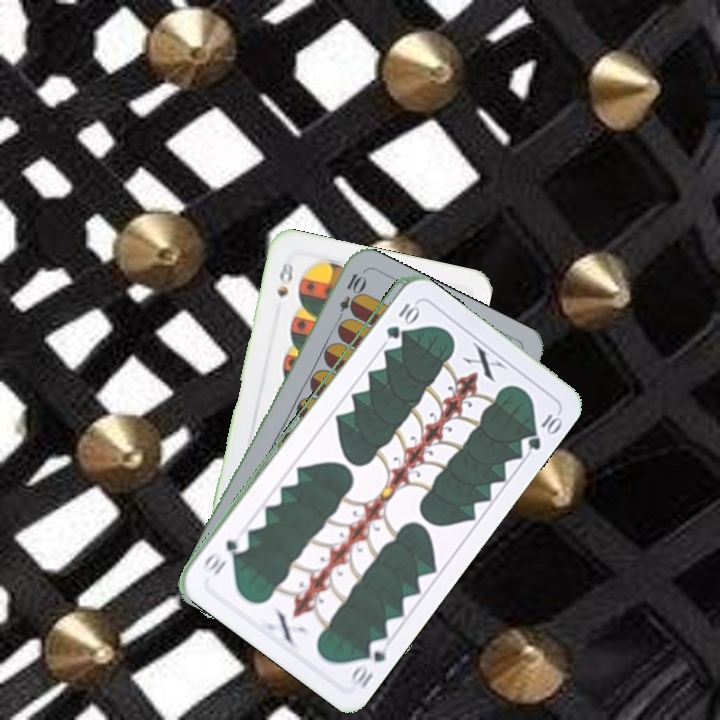E10: (332, 269, 367, 326)
G10: (347, 634, 392, 691), (382, 299, 419, 342)
S8: (273, 258, 296, 300)
